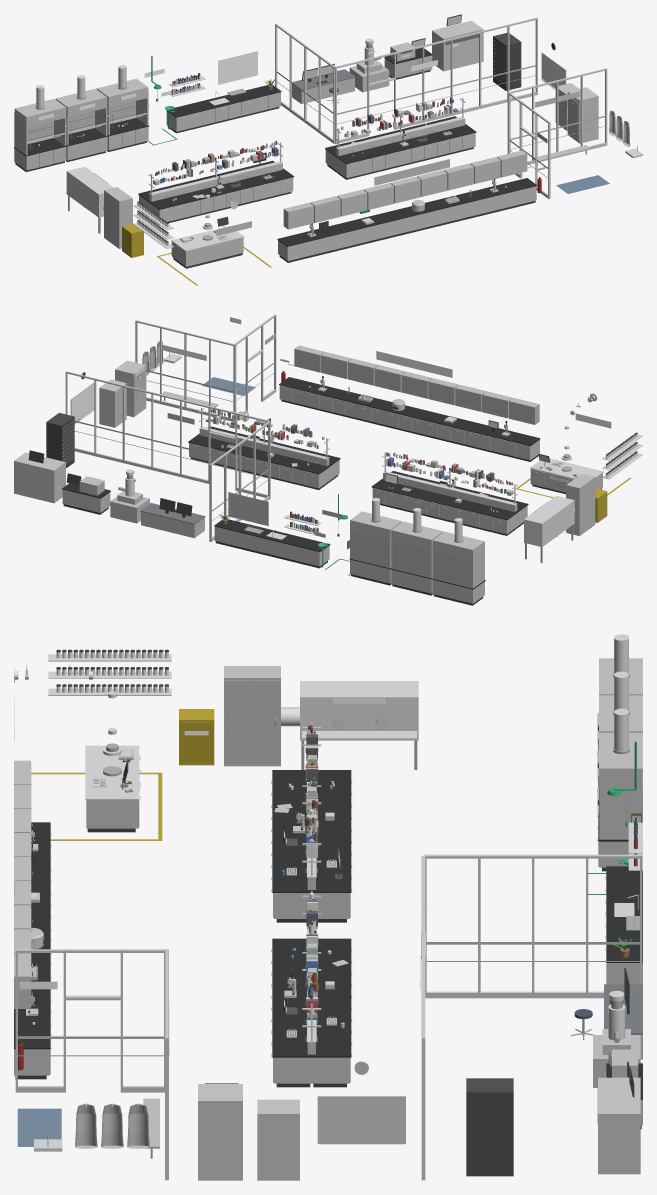
The model's file is labfurniture.glb.
3 views of the same model, one above another, from view 1: azimuth 30°, elevation 25°; view 2: azimuth 150°, elevation 25°; view 3: azimuth 270°, elevation 25° (orthographic). The views are drawn at different scales.
Parts seen in each view (by area): view 1: labfurniture; view 2: labfurniture; view 3: labfurniture.
Part boxes in pixels (<box>): labfurniture: <box>14,14,642,285</box>; labfurniture: <box>14,314,642,605</box>; labfurniture: <box>14,634,642,1180</box>.
Bounding box in the file's own units: 21.24 × 3.3 × 13.24.
